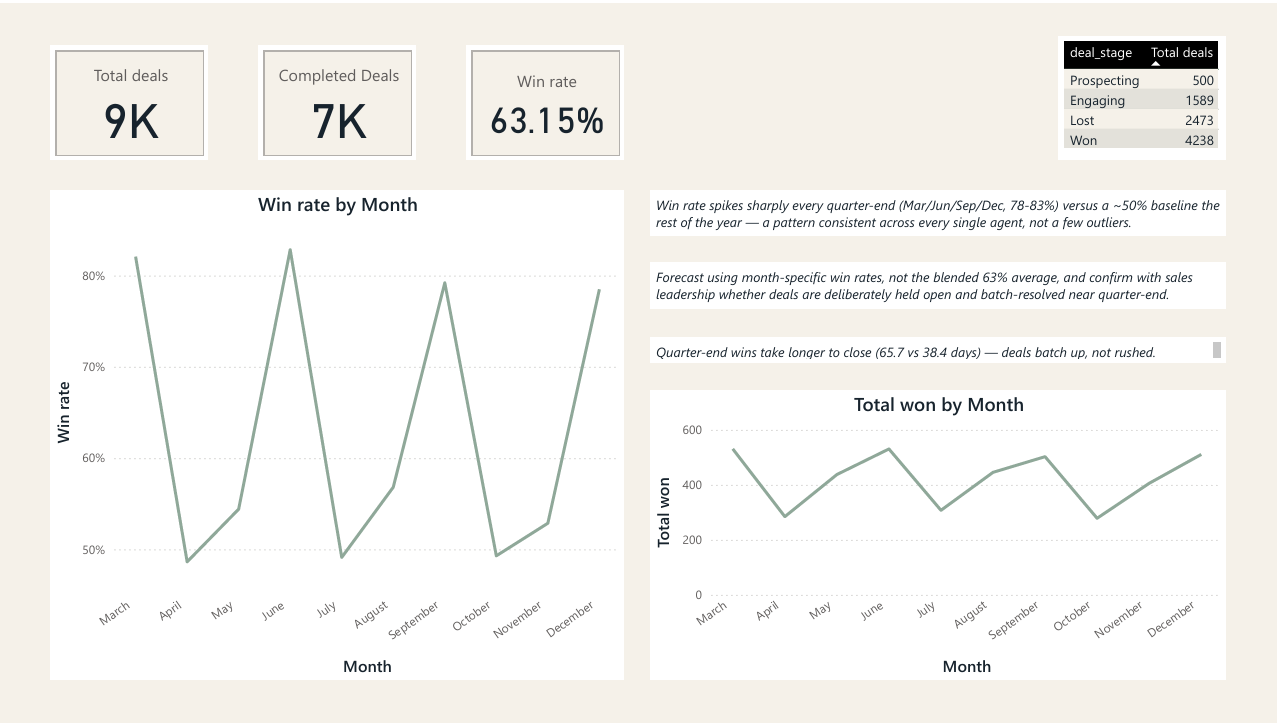

This screenshot's page, from the dashboard's own definition file:
{"tool":"powerbi","page":{"name":"Deal stage performance","canvas":[1280,720],"ordinal":3},"visuals":[{"type":"cardVisual","fields":{"Data":["sales_pipeline.Total deals"]},"box":[53,42,158,115],"z":0},{"type":"cardVisual","fields":{"Data":["sales_pipeline.Completed Deals"]},"box":[261,42,158,115],"z":1000},{"type":"cardVisual","fields":{"Data":["sales_pipeline.Win rate"]},"box":[469,42,158,115],"z":2000},{"type":"lineChart","fields":{"Category":["sales_pipeline.close_date.Variation.Date Hierarchy.Year","sales_pipeline.close_date.Variation.Date Hierarchy.Quarter","sales_pipeline.close_date.Variation.Date Hierarchy.Month","sales_pipeline.close_date.Variation.Date Hierarchy.Day"],"Y":["sales_pipeline.Total won"]},"box":[653,387,576,290],"z":3000},{"type":"lineChart","fields":{"Category":["sales_pipeline.close_date.Variation.Date Hierarchy.Year","sales_pipeline.close_date.Variation.Date Hierarchy.Quarter","sales_pipeline.close_date.Variation.Date Hierarchy.Month","sales_pipeline.close_date.Variation.Date Hierarchy.Day"],"Y":["sales_pipeline.Win rate"]},"box":[53,187,574,490],"z":4000},{"type":"tableEx","fields":{"Values":["sales_pipeline.deal_stage","sales_pipeline.Total deals"]},"box":[1061,33,168,124],"z":5000},{"type":"textbox","box":[653,187,576,46],"z":6000},{"type":"textbox","box":[653,259,576,47],"z":7000},{"type":"textbox","box":[653,334,576,26],"z":8000}]}

Visuals, with their boxes in screenshot pixels (x1, y1, x2, y2), scaled from the page's 1280x720 canvas onto the 1277x727 screenshot:
cardVisual - sales_pipeline.Total deals: left=53, top=42, right=211, bottom=159
cardVisual - sales_pipeline.Completed Deals: left=260, top=42, right=418, bottom=159
cardVisual - sales_pipeline.Win rate: left=468, top=42, right=626, bottom=159
lineChart - sales_pipeline.close_date.Variation.Date Hierarchy.Year x sales_pipeline.close_date.Variation.Date Hierarchy.Quarter: left=651, top=391, right=1226, bottom=684
lineChart - sales_pipeline.close_date.Variation.Date Hierarchy.Year x sales_pipeline.close_date.Variation.Date Hierarchy.Quarter: left=53, top=189, right=626, bottom=684
tableEx - sales_pipeline.deal_stage x sales_pipeline.Total deals: left=1059, top=33, right=1226, bottom=159
textbox: left=651, top=189, right=1226, bottom=235
textbox: left=651, top=262, right=1226, bottom=309
textbox: left=651, top=337, right=1226, bottom=364
